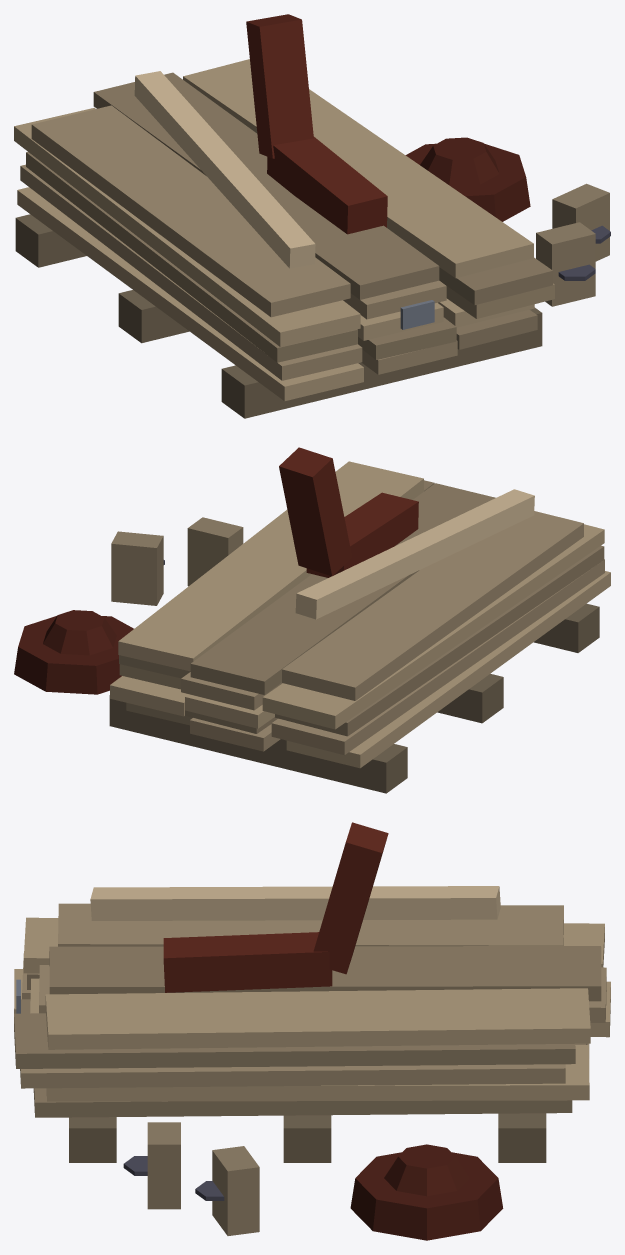
File: salvage_stack.glb
3 renders of one model, top to bottom at view 1: azimuth 30°, elevation 25°; view 2: azimuth 150°, elevation 25°; view 3: azimuth 270°, elevation 25°, orthographic. The views are drawn at different scales.
Parts seen in each view (by area): view 1: driftwood_d15, driftwood_d23, driftwood_d31, coal_d50, driftwood_d45, driftwood_l5, coal_d60, driftwood_d30, slate_l5, ink_l20; view 2: driftwood_d15, driftwood_d23, driftwood_d31, driftwood_d45, coal_d50, driftwood_l5, coal_d60, driftwood_d30; view 3: driftwood_d15, driftwood_d31, driftwood_d23, coal_d50, driftwood_l5, coal_d60, driftwood_d45, driftwood_d30, ink_l20.
Part boxes in pixels (<box>): driftwood_d15: <box>14,59,534,401</box>; driftwood_d23: <box>20,105,554,380</box>; driftwood_d31: <box>26,72,552,362</box>; coal_d50: <box>246,14,387,234</box>; driftwood_d45: <box>15,214,542,418</box>; driftwood_l5: <box>134,71,315,268</box>; coal_d60: <box>405,137,530,221</box>; driftwood_d30: <box>536,183,609,306</box>; slate_l5: <box>400,300,434,329</box>; ink_l20: <box>558,225,610,280</box>; driftwood_d15: <box>110,461,610,768</box>; driftwood_d23: <box>119,511,604,755</box>; driftwood_d31: <box>119,480,604,736</box>; driftwood_d45: <box>109,603,599,793</box>; coal_d50: <box>279,447,418,577</box>; driftwood_l5: <box>295,489,534,619</box>; coal_d60: <box>14,610,133,694</box>; driftwood_d30: <box>111,517,243,605</box>; driftwood_d15: <box>14,917,610,1101</box>; driftwood_d31: <box>14,946,601,1117</box>; driftwood_d23: <box>20,903,606,1088</box>; coal_d50: <box>163,822,388,992</box>; driftwood_l5: <box>90,886,500,920</box>; coal_d60: <box>350,1144,503,1240</box>; driftwood_d45: <box>69,1113,546,1162</box>; driftwood_d30: <box>147,1122,259,1235</box>; ink_l20: <box>123,1156,224,1200</box>.
Size of the model in its own units: 2.27 by 1.23 by 2.5.
